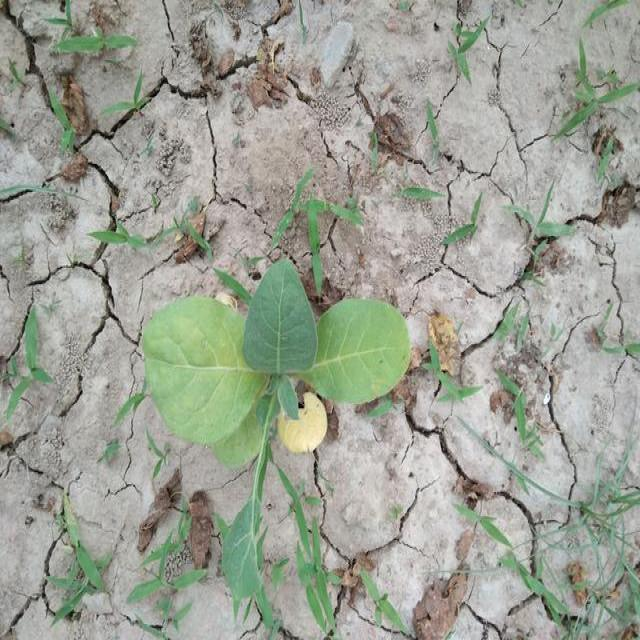crop: (138, 249, 420, 460)
